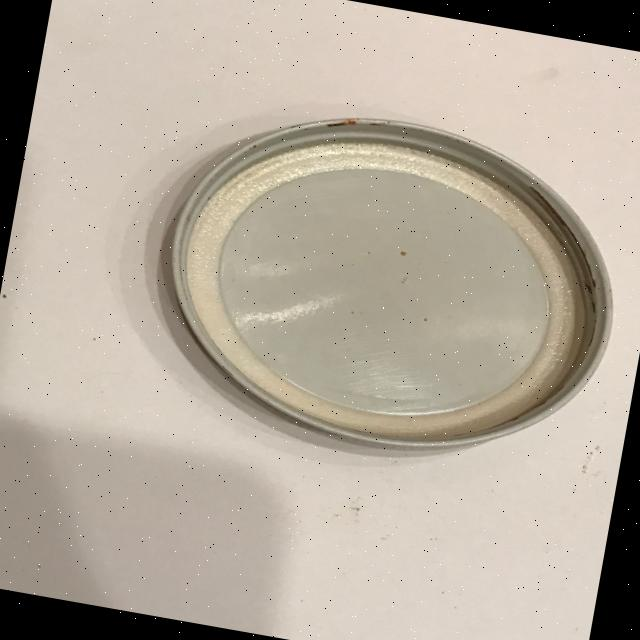metal: (140, 83, 640, 481)
